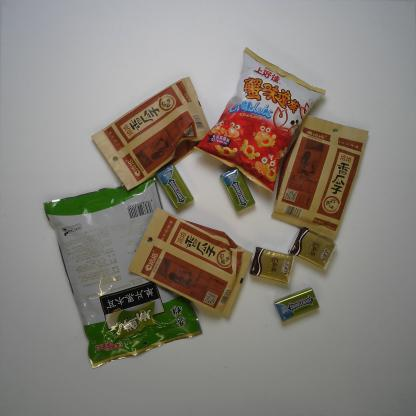Dried Food: (42, 177, 205, 370), (90, 76, 212, 192), (128, 206, 254, 318), (269, 114, 370, 242)
Gum: (272, 286, 322, 326), (156, 164, 194, 211), (219, 167, 256, 213)
Puffed Food: (193, 45, 327, 194)
Tissue: (287, 227, 338, 271), (248, 246, 295, 284)
